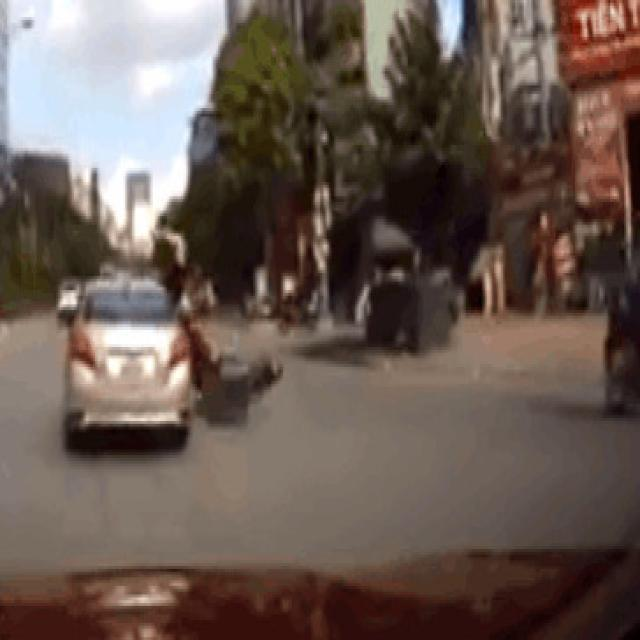multiple_accident: (62, 244, 287, 470)
